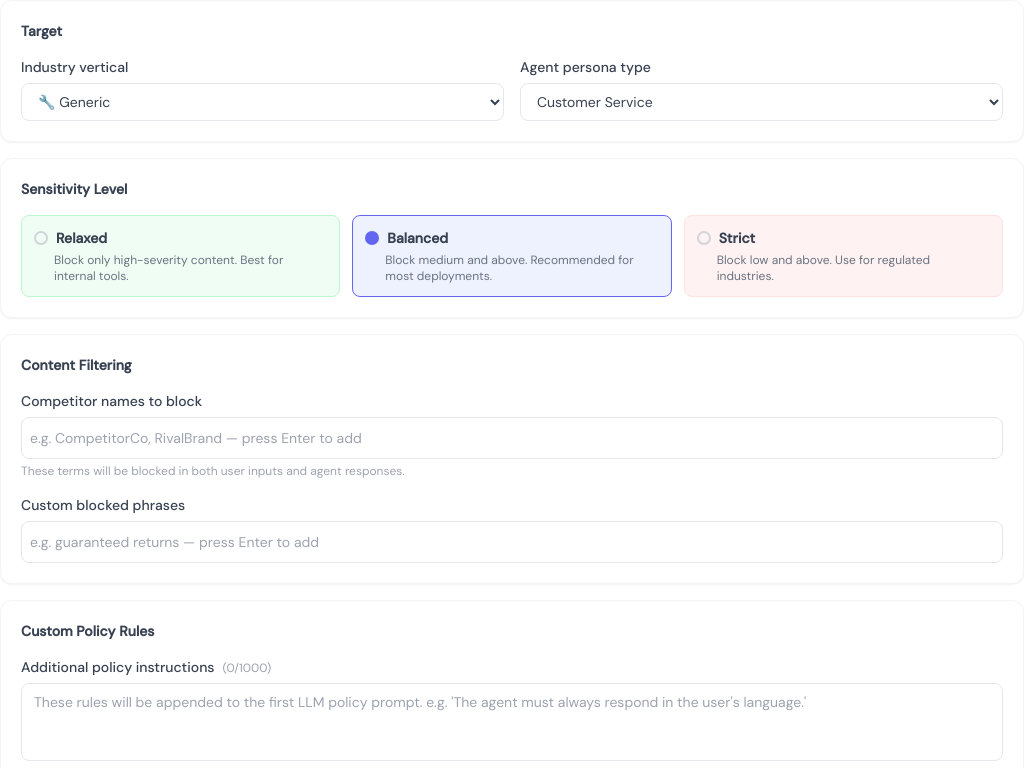
Test: GuardrailsForm — defaults and validation › custom_policy_rules shows character count
Type "Hello" into the text box with placeholder "These rules will be appended" at (512, 722), box x1=21 y1=683 x2=1003 y2=761
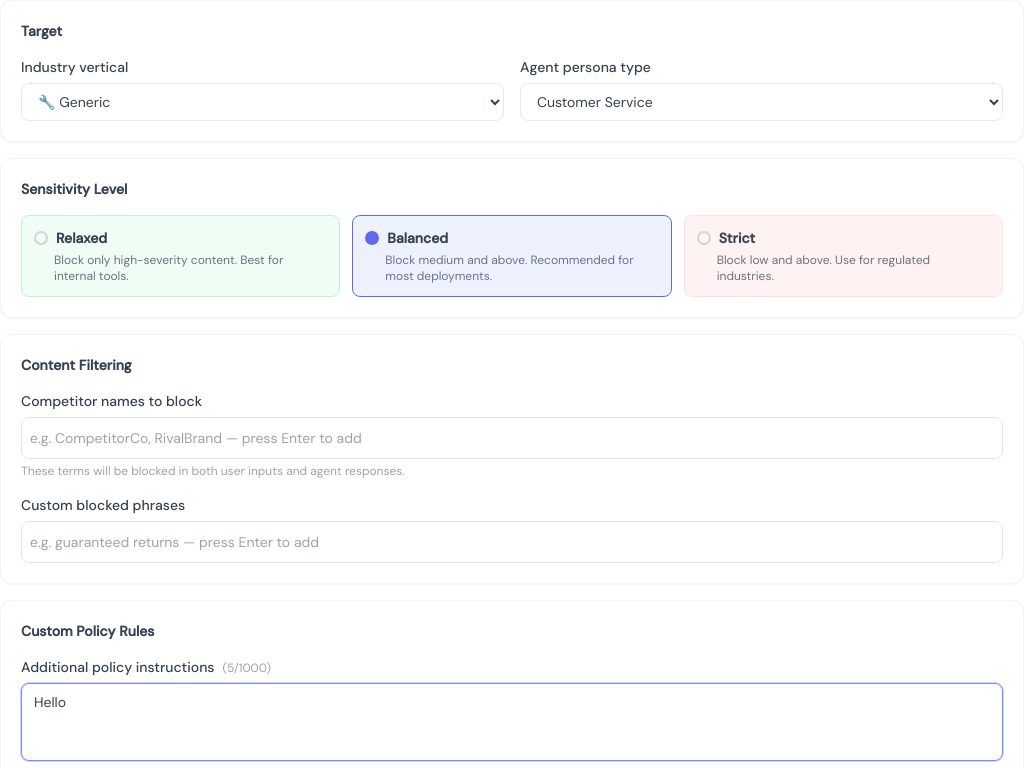
Result: the text "(5/1000)" is shown at x1=222 y1=660 x2=271 y2=676
